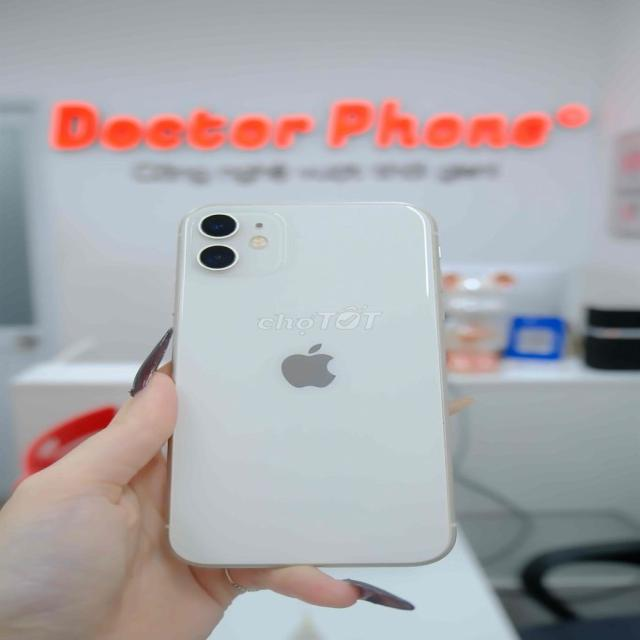gen_11: (158, 200, 460, 580)
